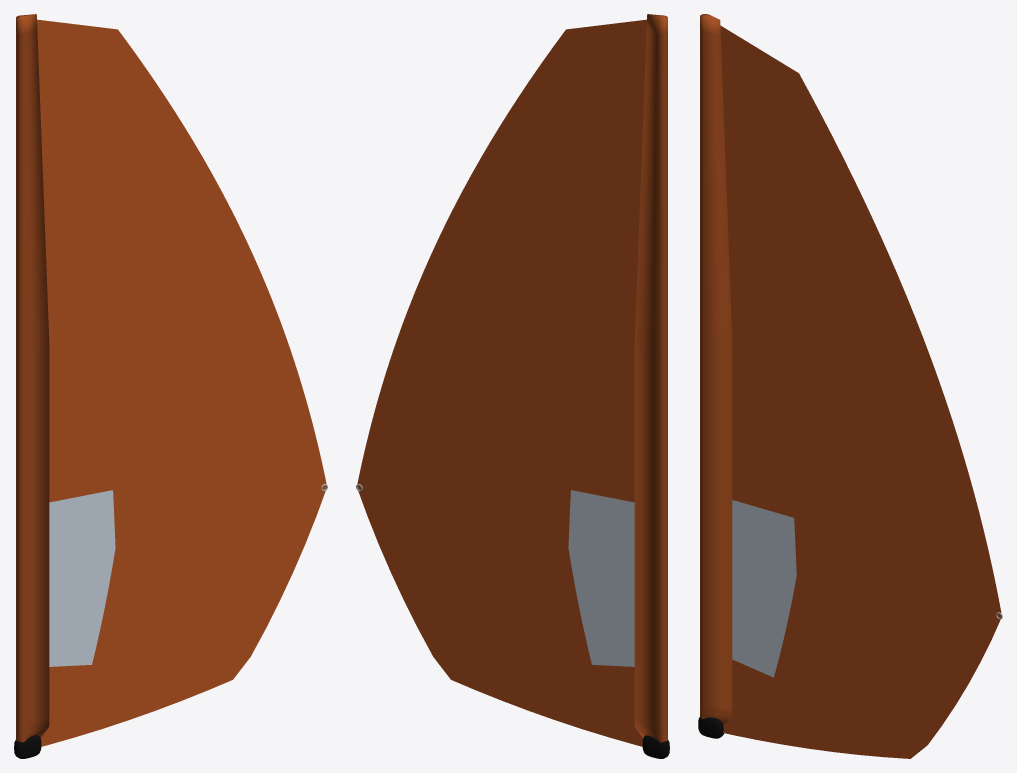
File: savanna_slalom_8_0.glb
The picture shows the model from 3 angles, left to right: view 1: azimuth 30°, elevation 25°; view 2: azimuth 150°, elevation 25°; view 3: azimuth 330°, elevation 25°; orthographic projection. The views are drawn at different scales.
Visible parts, largest first — view 1: SailCloth; view 2: SailCloth; view 3: SailCloth.
Part boxes in pixels (box(x1,y1,x2,y2)): SailCloth: box(16, 14, 326, 746); SailCloth: box(357, 14, 667, 746); SailCloth: box(700, 14, 1001, 758).
Bounding box in the file's own units: 2.25 × 5.11 × 0.08.
